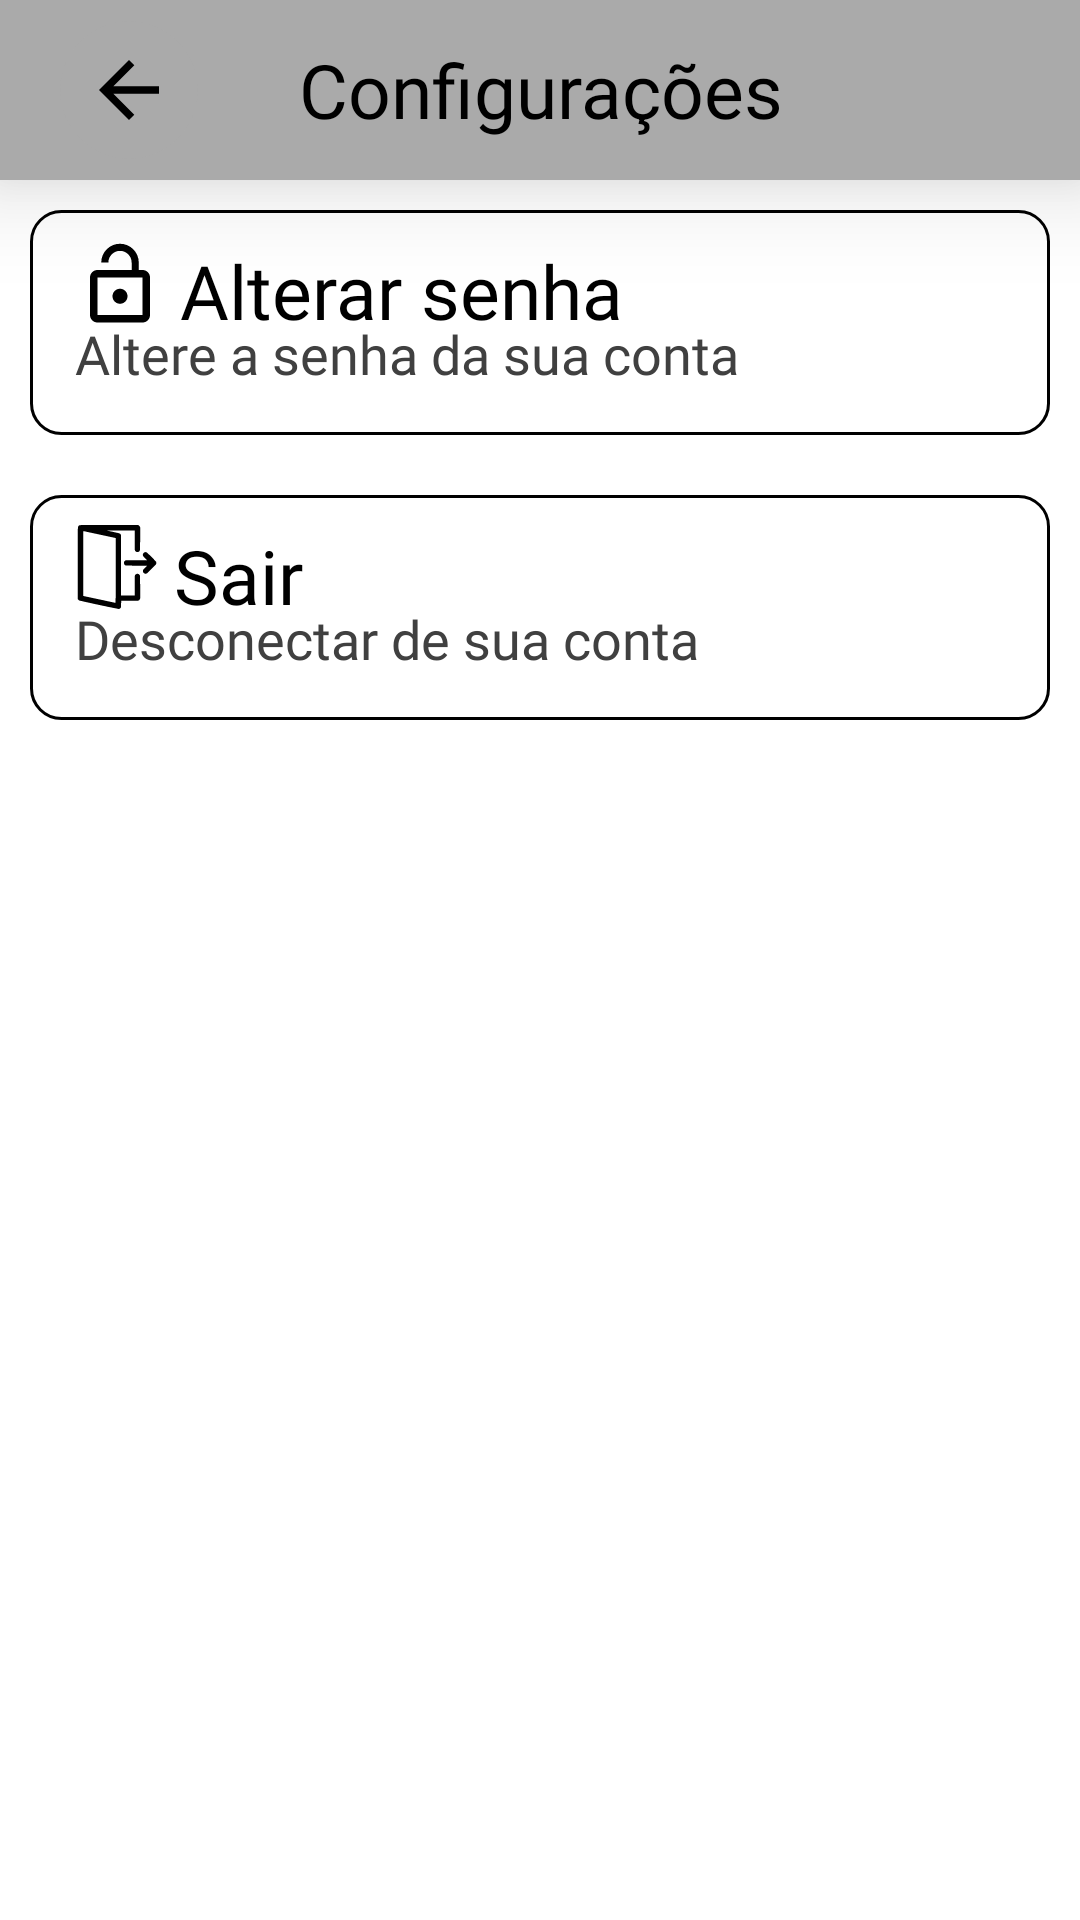

Locate icon controls on the screen. Image size 1080 x 1920, boxes as BBox(x1, y1, x2, y2).
back: BBox(99, 60, 159, 120)
lockopen: BBox(90, 243, 150, 323)
